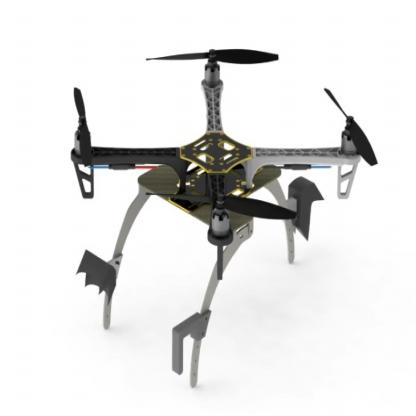drone: (58, 48, 380, 259)
